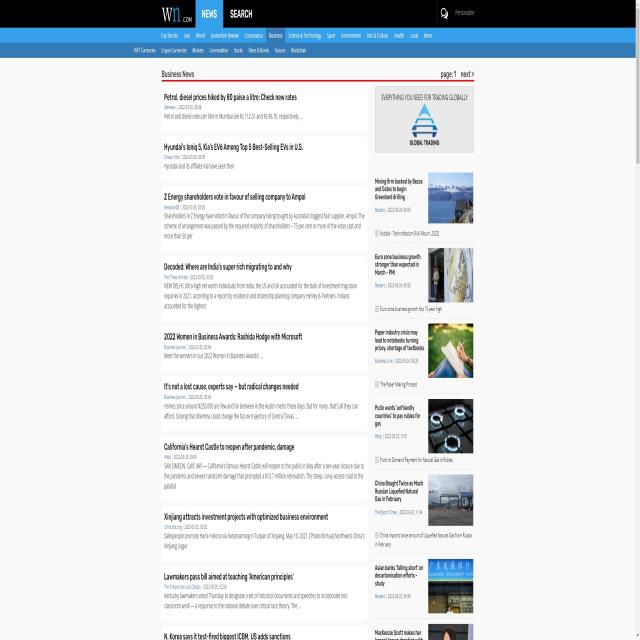tab-bar: (159, 24, 437, 40), (127, 43, 309, 58)
